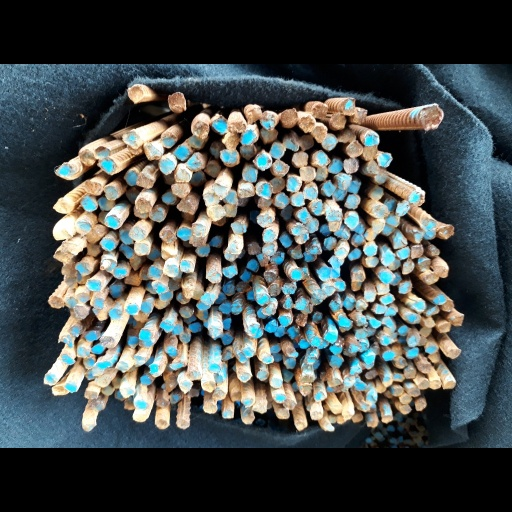dipstick: (418, 104, 442, 129), (127, 85, 146, 103), (52, 223, 73, 239), (279, 109, 297, 127), (169, 92, 186, 111), (244, 105, 262, 122), (87, 225, 105, 242), (53, 198, 72, 214), (261, 111, 277, 129), (143, 143, 161, 159), (192, 119, 207, 138), (97, 158, 116, 173), (272, 159, 288, 176), (171, 183, 190, 197), (119, 225, 133, 244), (211, 116, 227, 132), (299, 116, 315, 132), (299, 134, 315, 150), (269, 143, 285, 159), (137, 172, 153, 188), (340, 99, 355, 116), (256, 153, 271, 170), (336, 173, 351, 190), (240, 130, 257, 145), (223, 133, 238, 150), (238, 182, 255, 197), (177, 199, 194, 214), (79, 149, 94, 166), (228, 118, 246, 132), (54, 163, 73, 176), (346, 142, 362, 157), (284, 134, 299, 150), (344, 212, 359, 228), (246, 323, 262, 338), (208, 205, 224, 220), (123, 132, 139, 147), (292, 152, 309, 166), (220, 150, 238, 163), (286, 176, 301, 191), (300, 166, 315, 181), (160, 158, 175, 173), (136, 198, 151, 213), (331, 113, 345, 129), (261, 129, 277, 143), (370, 185, 384, 201), (437, 224, 453, 238), (187, 154, 201, 170), (174, 146, 190, 160), (174, 169, 190, 183), (160, 229, 176, 243), (161, 245, 177, 259), (81, 197, 97, 211), (118, 245, 134, 259), (101, 258, 117, 272), (129, 255, 145, 269), (75, 262, 92, 275), (312, 103, 326, 118), (363, 145, 377, 160), (344, 158, 358, 173), (328, 159, 343, 173), (315, 151, 329, 166), (274, 193, 289, 207), (240, 145, 255, 159), (334, 225, 349, 239), (408, 228, 422, 243), (329, 355, 344, 369), (161, 132, 175, 147), (148, 266, 163, 280), (101, 237, 116, 251), (74, 304, 88, 319), (363, 132, 379, 145), (313, 125, 326, 141), (373, 205, 389, 218), (256, 214, 272, 227), (134, 242, 150, 255), (105, 215, 121, 228), (85, 181, 101, 194), (75, 221, 91, 234), (93, 146, 110, 158), (54, 251, 71, 263), (377, 152, 391, 166), (258, 184, 272, 198), (342, 296, 356, 310), (146, 246, 160, 260), (62, 241, 76, 255), (410, 191, 423, 206), (303, 186, 318, 199), (271, 177, 284, 192), (243, 167, 256, 182), (204, 162, 219, 175), (381, 251, 394, 266), (231, 221, 246, 234), (228, 239, 241, 254), (206, 270, 221, 283), (204, 193, 219, 206), (130, 227, 145, 240), (104, 185, 117, 200), (109, 285, 124, 298), (153, 282, 169, 294), (51, 385, 68, 396), (322, 136, 335, 150), (396, 201, 409, 215), (322, 181, 335, 195), (346, 194, 359, 208), (213, 182, 227, 195), (225, 191, 239, 204), (417, 258, 431, 271), (401, 262, 415, 275), (263, 229, 276, 243), (191, 172, 205, 185), (177, 227, 191, 240), (180, 260, 194, 273), (164, 264, 178, 277), (48, 295, 62, 308), (82, 418, 96, 431), (384, 197, 396, 212), (372, 218, 384, 233), (421, 217, 436, 229), (392, 235, 407, 247), (450, 314, 465, 326), (187, 136, 202, 148), (125, 171, 137, 186), (86, 279, 101, 291), (124, 303, 139, 315), (424, 245, 440, 256), (183, 282, 194, 298), (88, 399, 104, 410), (338, 132, 355, 142), (397, 247, 410, 260), (351, 234, 364, 247), (287, 327, 300, 340), (264, 319, 277, 332), (254, 400, 267, 413), (354, 108, 366, 122), (310, 200, 322, 214), (223, 204, 237, 216), (297, 208, 309, 222), (411, 245, 423, 259), (434, 265, 448, 277), (350, 362, 362, 376), (324, 236, 336, 250), (270, 252, 284, 264), (223, 265, 237, 277), (201, 292, 215, 304), (99, 199, 113, 211), (126, 274, 140, 286), (87, 243, 99, 257), (93, 309, 107, 321), (165, 377, 177, 391), (327, 210, 342, 221), (257, 197, 272, 208), (291, 224, 306, 235), (202, 402, 217, 413), (349, 180, 361, 193), (292, 193, 305, 205), (382, 223, 395, 235), (412, 300, 425, 312), (396, 323, 409, 335), (364, 244, 376, 257), (348, 248, 361, 260), (268, 283, 280, 296), (248, 242, 261, 254), (150, 210, 163, 222), (209, 325, 221, 338), (91, 297, 104, 309), (108, 308, 121, 320), (159, 320, 172, 332), (59, 335, 72, 347), (179, 380, 192, 392), (316, 166, 327, 180), (333, 189, 347, 200), (210, 144, 221, 158), (424, 272, 438, 283), (436, 322, 450, 333), (376, 283, 390, 294), (295, 298, 309, 309), (179, 306, 193, 317), (202, 381, 216, 392), (406, 314, 421, 324), (190, 236, 205, 246), (195, 246, 210, 256), (113, 268, 128, 278), (367, 161, 379, 173), (395, 356, 407, 368), (383, 350, 395, 362), (369, 316, 381, 328), (353, 314, 365, 326), (257, 254, 269, 266), (240, 270, 252, 282), (235, 282, 251, 291), (140, 301, 152, 313), (133, 413, 149, 422), (281, 206, 292, 219), (403, 368, 416, 379), (380, 293, 393, 304), (343, 375, 354, 388), (319, 268, 330, 281), (338, 317, 351, 328), (262, 243, 275, 254), (279, 236, 292, 247), (283, 297, 294, 310), (257, 294, 270, 305), (192, 225, 205, 236), (64, 296, 77, 307), (165, 346, 178, 357), (116, 361, 129, 372), (177, 418, 190, 429), (308, 218, 318, 232), (380, 273, 394, 283), (447, 348, 461, 358), (442, 379, 456, 389), (312, 289, 326, 299), (138, 330, 152, 340), (85, 330, 99, 340), (76, 347, 90, 357), (84, 389, 98, 399), (156, 398, 170, 408), (187, 370, 201, 380), (171, 360, 185, 370), (207, 363, 221, 373), (238, 372, 252, 382), (306, 245, 321, 254), (278, 316, 293, 325), (133, 313, 148, 322), (399, 283, 411, 294), (407, 334, 419, 345), (382, 316, 393, 328), (335, 247, 346, 259), (355, 300, 366, 312), (328, 300, 340, 311), (325, 331, 336, 343), (305, 354, 317, 365), (296, 314, 307, 326), (264, 271, 276, 282), (247, 260, 259, 271), (222, 285, 234, 296), (209, 236, 221, 247), (163, 193, 175, 204), (77, 292, 89, 303), (101, 336, 113, 347), (44, 373, 55, 385), (150, 364, 161, 376), (366, 228, 376, 241), (392, 273, 402, 286), (434, 295, 447, 305), (422, 318, 435, 328), (407, 387, 420, 397), (365, 257, 378, 267), (269, 378, 282, 388), (256, 370, 269, 380), (219, 303, 232, 313), (62, 355, 75, 365), (124, 397, 134, 410), (212, 390, 225, 400), (241, 397, 254, 407), (223, 252, 237, 261), (193, 286, 202, 300), (120, 387, 134, 396), (155, 419, 169, 428), (329, 221, 340, 232), (364, 290, 375, 301), (382, 375, 393, 386), (415, 400, 426, 411), (355, 381, 366, 392), (342, 406, 353, 417), (330, 268, 341, 279), (284, 358, 295, 369), (134, 355, 145, 366), (222, 334, 233, 345), (424, 229, 436, 239), (442, 301, 454, 311), (418, 363, 430, 373), (334, 281, 346, 291), (354, 329, 366, 339), (300, 384, 312, 394), (283, 370, 293, 382), (269, 343, 281, 353), (216, 292, 226, 304), (134, 211, 149, 219), (65, 382, 77, 392), (140, 375, 152, 385), (94, 379, 109, 387), (223, 348, 233, 360), (373, 304, 386, 313), (365, 370, 378, 379), (329, 258, 342, 267), (177, 294, 190, 303), (188, 323, 201, 332), (101, 387, 114, 396), (135, 400, 148, 409), (242, 415, 255, 424), (425, 345, 439, 353), (328, 378, 342, 386), (91, 345, 105, 353), (375, 173, 386, 183), (388, 216, 399, 226), (366, 393, 376, 404), (358, 340, 368, 351), (332, 404, 343, 414), (315, 391, 326, 401), (310, 337, 321, 347), (274, 326, 285, 336), (265, 305, 276, 315), (232, 303, 242, 314), (84, 369, 94, 380), (236, 352, 246, 363), (231, 391, 241, 402), (222, 409, 233, 419), (320, 224, 329, 236), (388, 261, 400, 270), (392, 373, 404, 382), (391, 387, 403, 396), (400, 395, 412, 404), (399, 405, 411, 414), (376, 381, 385, 393), (323, 286, 335, 295), (310, 410, 322, 419), (284, 400, 296, 409), (273, 394, 285, 403), (286, 348, 298, 357), (261, 355, 273, 364), (196, 311, 208, 320), (129, 336, 138, 348), (139, 266, 146, 281), (381, 333, 389, 346), (351, 273, 364, 281), (348, 344, 361, 352), (295, 235, 308, 243), (276, 410, 289, 418), (92, 367, 105, 375), (112, 376, 120, 389), (387, 332, 397, 342), (418, 379, 428, 389), (355, 222, 364, 233), (429, 379, 440, 388), (352, 413, 363, 422), (312, 312, 321, 323), (301, 305, 312, 314), (180, 334, 191, 343), (69, 326, 80, 335), (83, 358, 94, 367), (96, 361, 110, 368), (428, 354, 440, 362), (330, 346, 342, 354), (337, 415, 349, 423), (295, 421, 307, 429), (223, 318, 231, 330), (301, 375, 314, 382), (197, 303, 210, 310), (215, 373, 224, 383), (244, 347, 253, 357), (364, 354, 375, 362), (381, 415, 392, 423), (359, 403, 370, 411), (299, 340, 310, 348), (170, 395, 181, 403), (128, 148, 142, 154), (393, 347, 402, 356), (273, 353, 282, 362), (173, 325, 182, 334), (115, 392, 124, 401), (385, 307, 395, 315), (364, 362, 374, 370), (351, 282, 361, 290), (366, 420, 377, 427), (183, 317, 195, 323), (318, 341, 328, 348), (323, 425, 334, 431), (329, 415, 337, 423), (247, 292, 254, 301), (190, 389, 199, 396)
